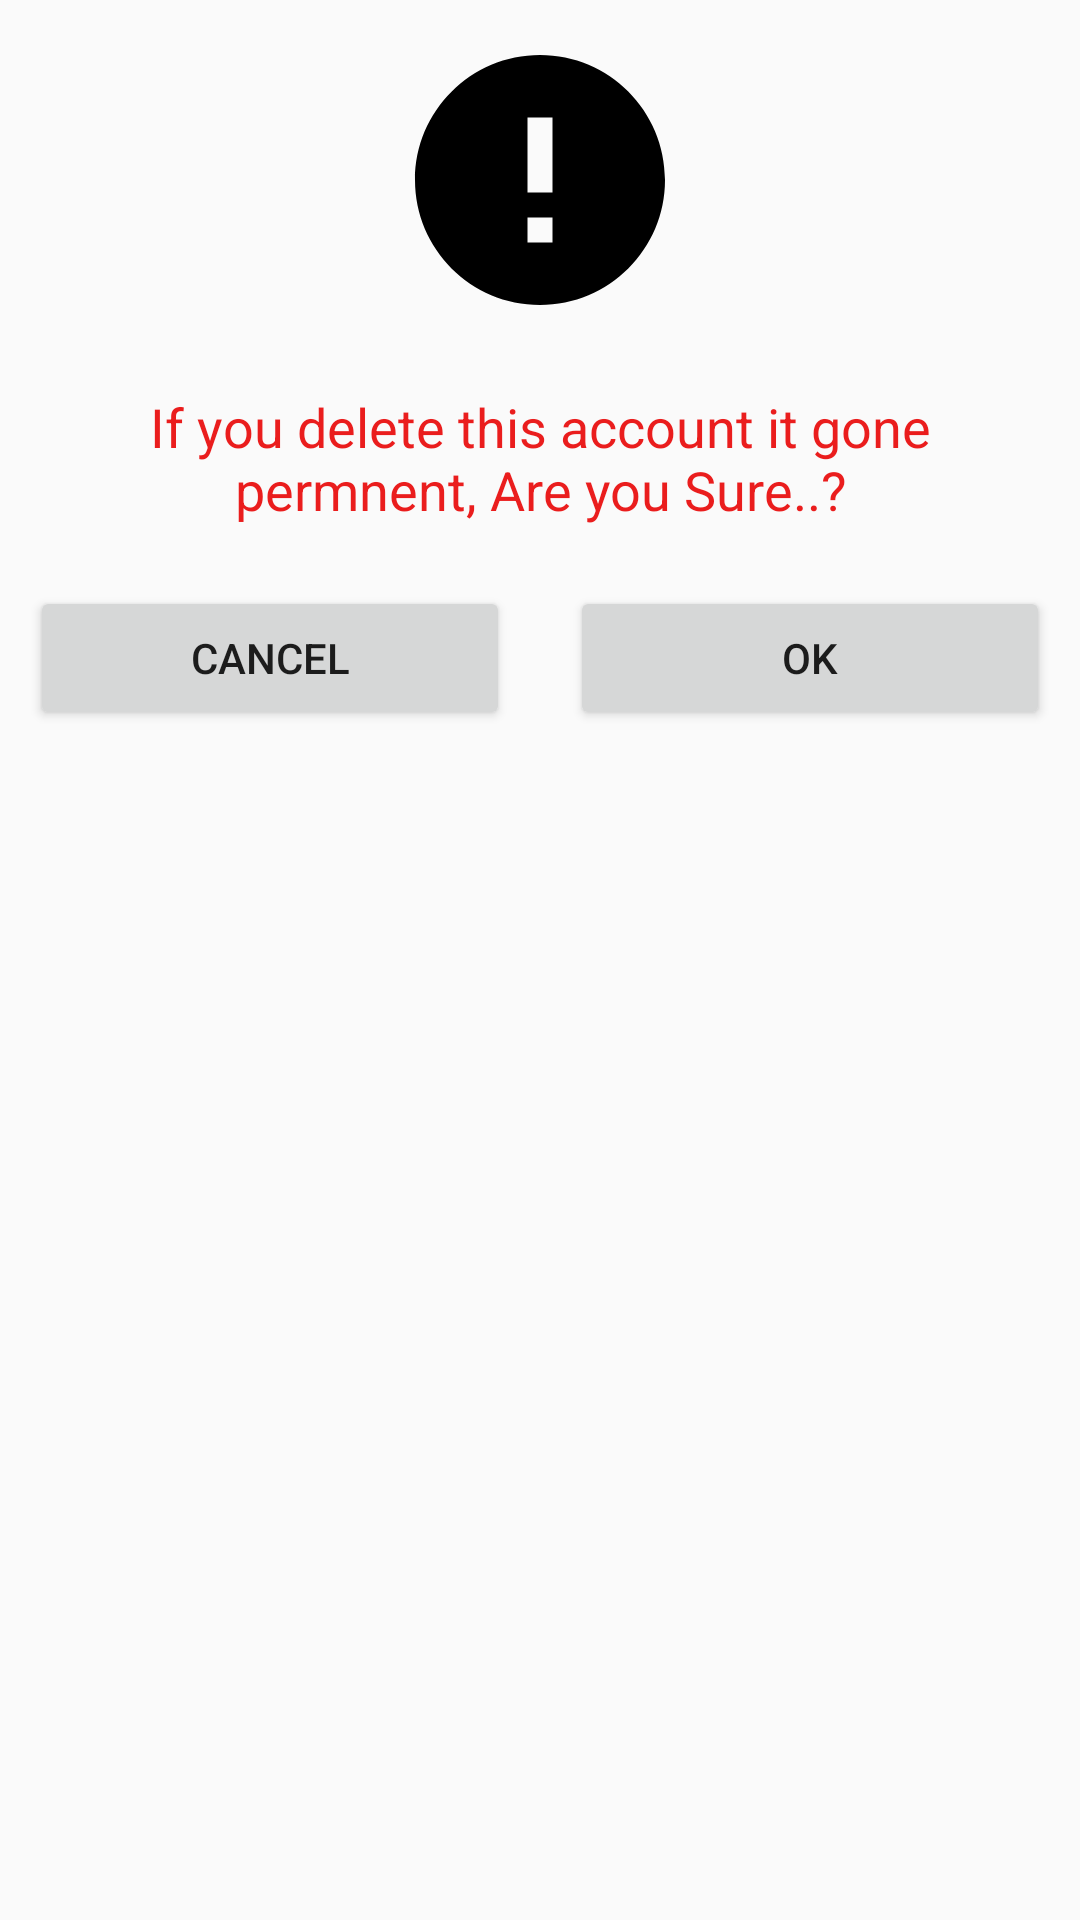

Named icons in this screenshot (1080 x 1920) and their bounding boxes, (left=x1, top=y1, right=x2, bottom=y2):
warning: (left=415, top=55, right=665, bottom=305)
